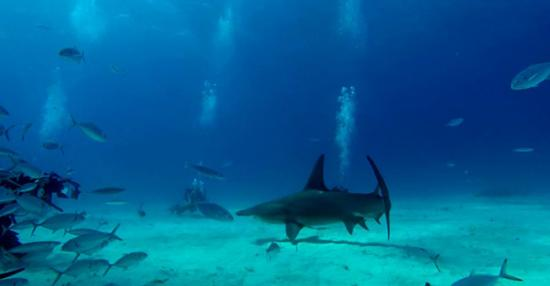shark: (222, 150, 419, 254)
